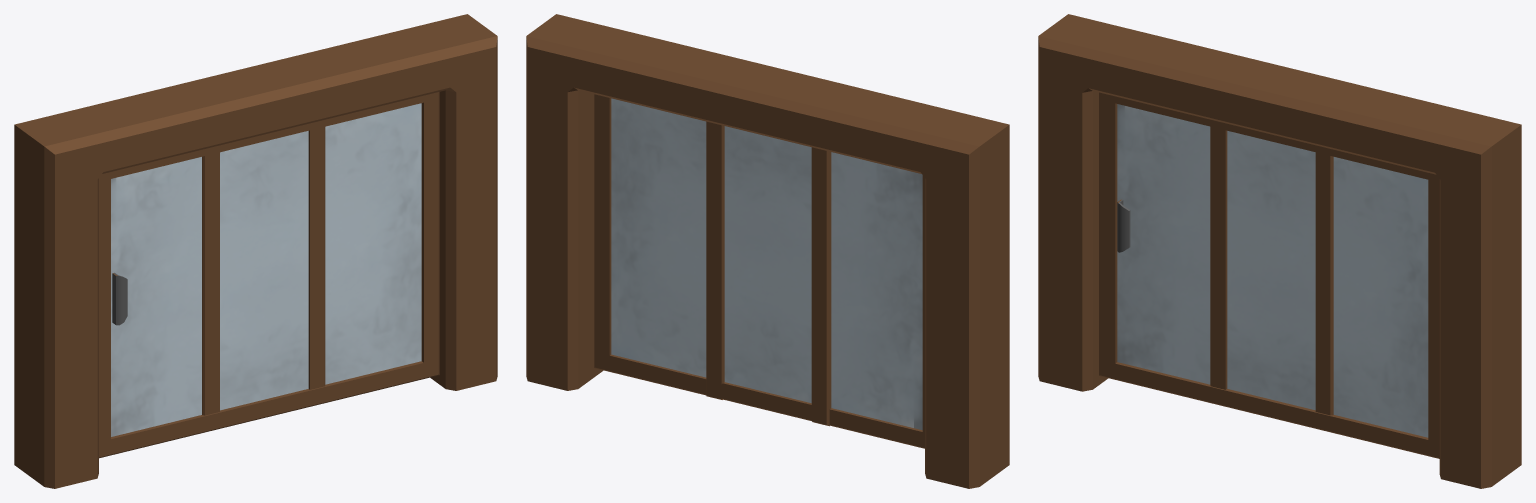
The model's file is Door_Large2.fbx.
3 renders of one model, left to right at view 1: azimuth 30°, elevation 25°; view 2: azimuth 150°, elevation 25°; view 3: azimuth 330°, elevation 25°, orthographic.
Visible parts, largest first — view 1: Door_Large1, Door_Large_Frame; view 2: Door_Large1, Door_Large_Frame; view 3: Door_Large1, Door_Large_Frame.
Boxes of the visible parts, x1,y1,x2,y2 form: Door_Large1: [99, 92, 439, 458]; Door_Large_Frame: [14, 14, 497, 488]; Door_Large1: [594, 94, 924, 448]; Door_Large_Frame: [526, 14, 1009, 488]; Door_Large1: [1099, 92, 1439, 458]; Door_Large_Frame: [1038, 14, 1521, 488].
Size of the model in its own units: 3.03 by 2.18 by 0.4541.
